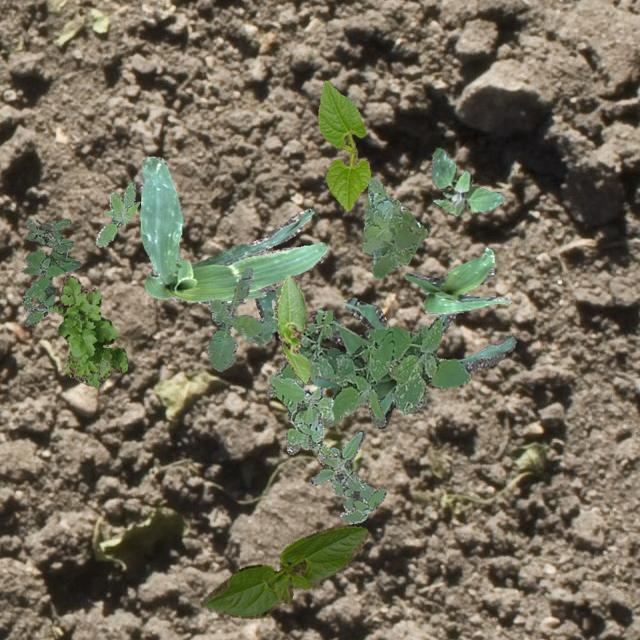crop: (254, 288, 516, 428), (138, 156, 326, 304), (200, 524, 368, 618), (404, 246, 509, 312), (318, 80, 370, 210), (274, 274, 310, 382)
weed: (266, 309, 470, 426), (47, 274, 126, 386), (203, 266, 281, 370), (308, 428, 386, 522), (361, 176, 426, 278), (21, 218, 79, 324), (268, 374, 336, 461), (430, 146, 502, 214), (94, 182, 140, 246)
